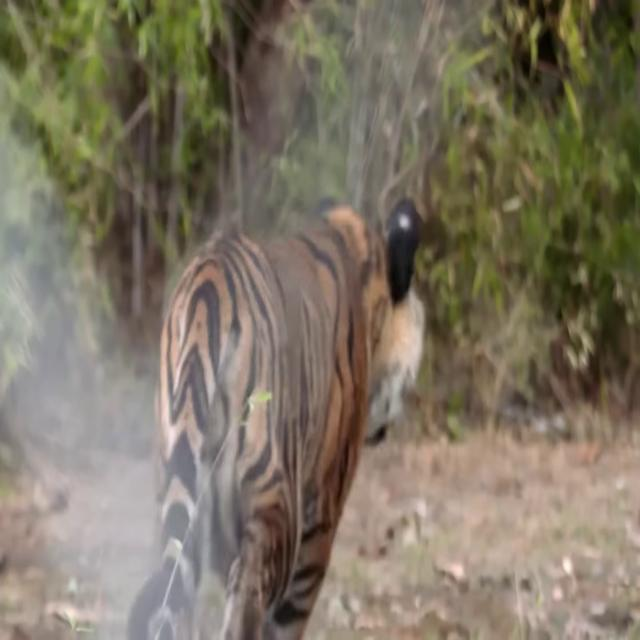tiger: (127, 197, 428, 640)
